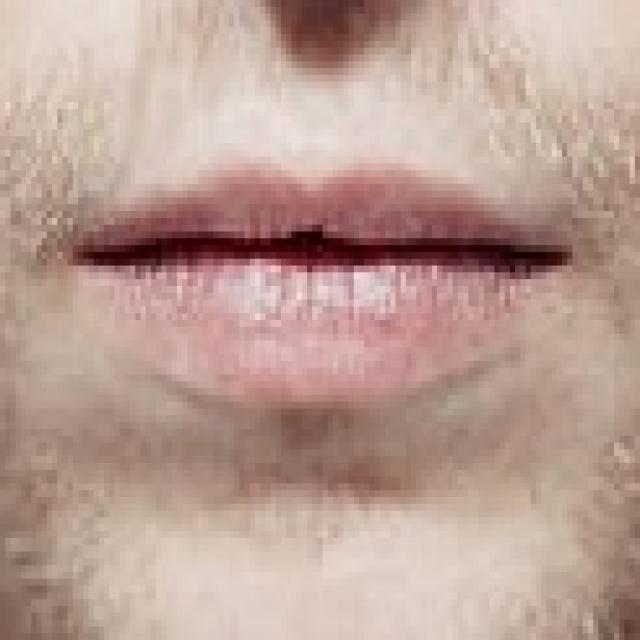closed-mouth: (57, 150, 578, 422)
